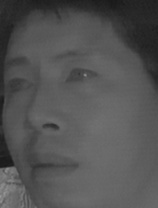eye: (64, 64, 99, 86), (4, 76, 35, 94)
mouth: (21, 148, 81, 184)
